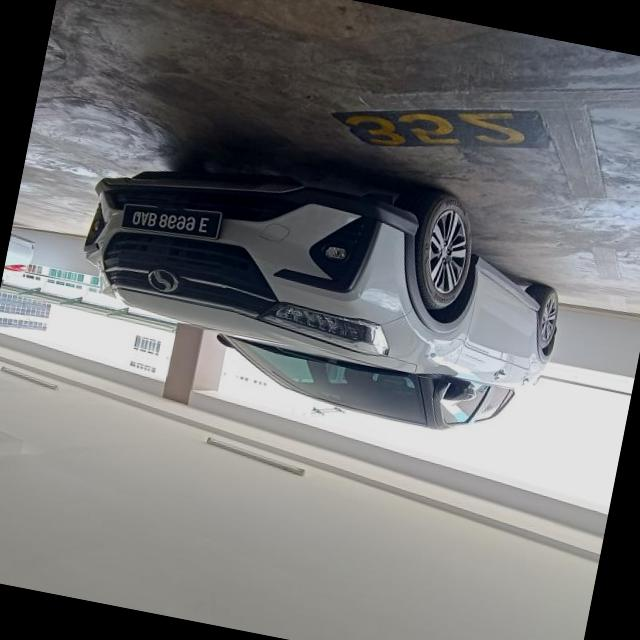PeroduaAtiva: (59, 125, 581, 451)
